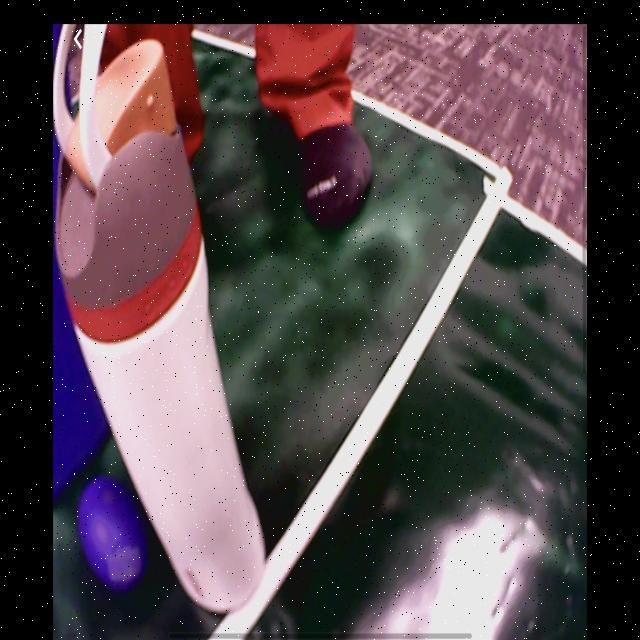ball: (79, 475, 149, 590)
